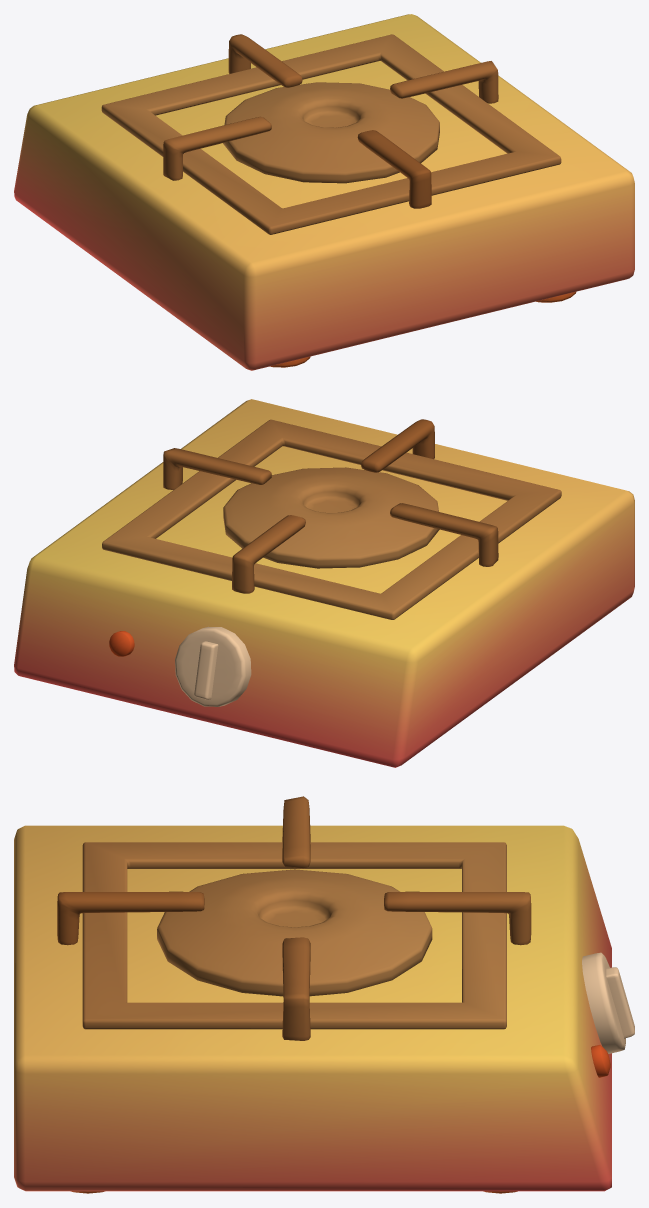
The model's file is TeaBrewer01.fbx.
3 renders of one model, top to bottom at view 1: azimuth 30°, elevation 25°; view 2: azimuth 150°, elevation 25°; view 3: azimuth 270°, elevation 25°, orthographic. The views are drawn at different scales.
Visible parts, largest first — view 1: TeaBrewer; view 2: TeaBrewer, TeaBrewerButton; view 3: TeaBrewer, TeaBrewerButton.
Boxes of the visible parts, bbox=[...] form: TeaBrewer: bbox=[14, 14, 634, 370]; TeaBrewer: bbox=[14, 399, 634, 767]; TeaBrewerButton: bbox=[175, 626, 251, 706]; TeaBrewer: bbox=[14, 796, 611, 1193]; TeaBrewerButton: bbox=[582, 952, 634, 1053].
Size of the model in its own units: 161 by 63.4 by 176.
Materials: 1 (1 with a texture image).
